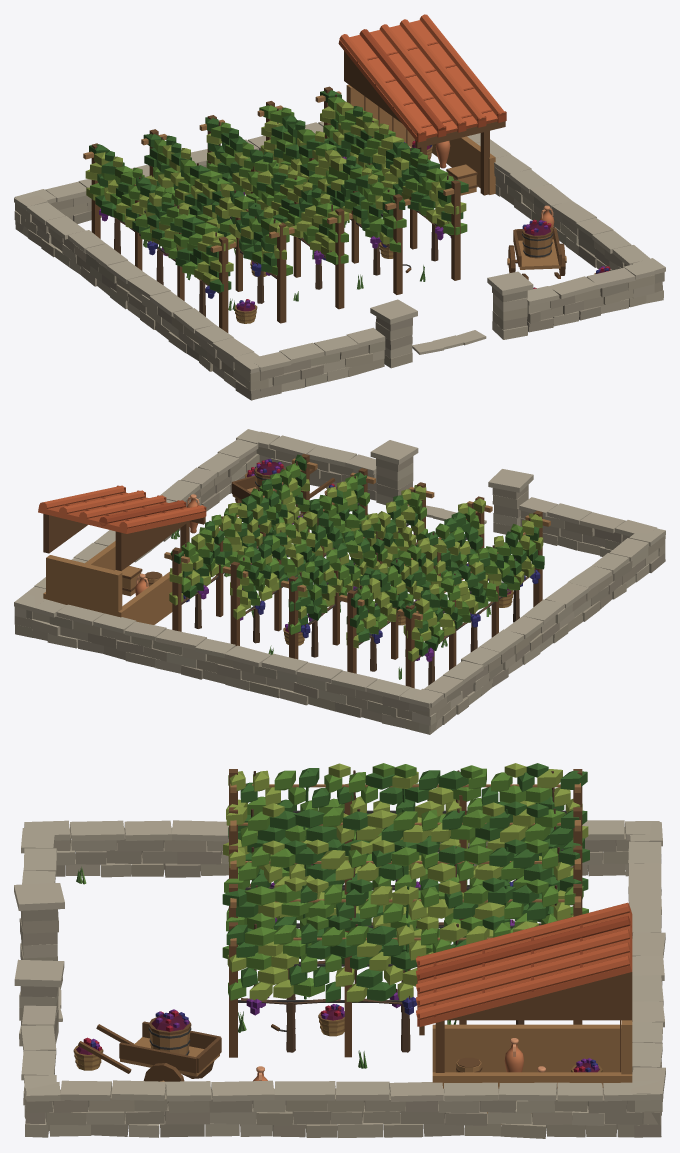
File: Weinberg.fbx
3 renders of one model, top to bottom at view 1: azimuth 30°, elevation 25°; view 2: azimuth 150°, elevation 25°; view 3: azimuth 270°, elevation 25°, orthographic. The views are drawn at different scales.
Parts seen in each view (by area): view 1: Weinberg_0; view 2: Weinberg_0; view 3: Weinberg_0.
Boxes of the visible parts, x1=… form: Weinberg_0: x1=14, y1=14, x2=665, y2=400; Weinberg_0: x1=14, y1=429, x2=665, y2=734; Weinberg_0: x1=14, y1=763, x2=665, y2=1138.
Bounding box in the file's own units: 3.6 × 1.07 × 3.6.
